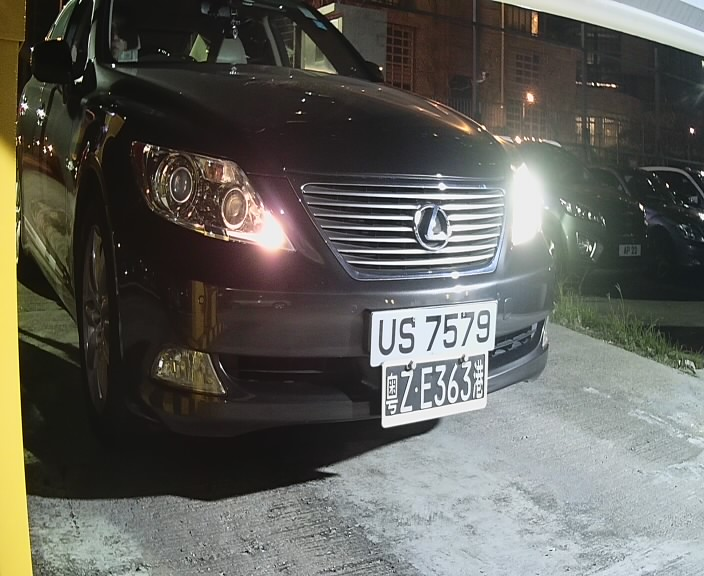Car: (5, 2, 578, 507)
License Plate: (361, 292, 504, 374)
